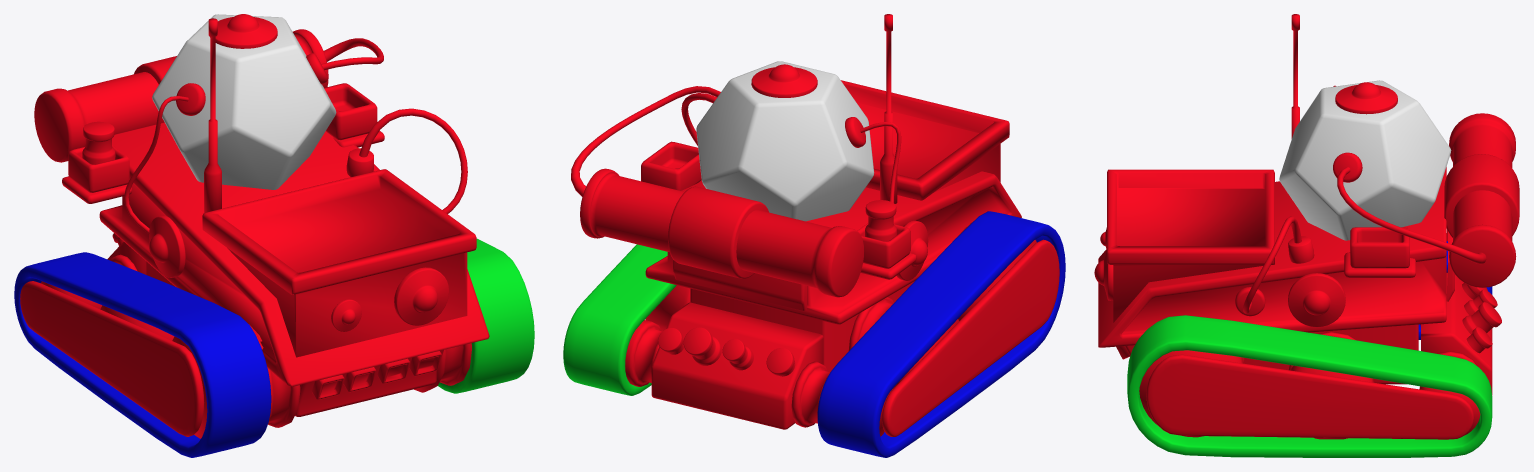
File: SK_DROBOT_.fbx
3 renders of one model, left to right at view 1: azimuth 30°, elevation 25°; view 2: azimuth 150°, elevation 25°; view 3: azimuth 270°, elevation 25°, orthographic. The views are drawn at different scales.
Visible parts, largest first — view 1: MAIN_BODY, BAC; view 2: MAIN_BODY, BAC; view 3: MAIN_BODY, BAC.
Boxes of the visible parts, x1,y1,x2,y2 form: MAIN_BODY: [14, 14, 534, 457]; BAC: [202, 169, 476, 357]; MAIN_BODY: [563, 14, 1065, 457]; BAC: [841, 80, 1009, 200]; MAIN_BODY: [1098, 14, 1519, 457]; BAC: [1094, 169, 1274, 322].
Size of the model in its own units: 87.5 by 93.33 by 106.
